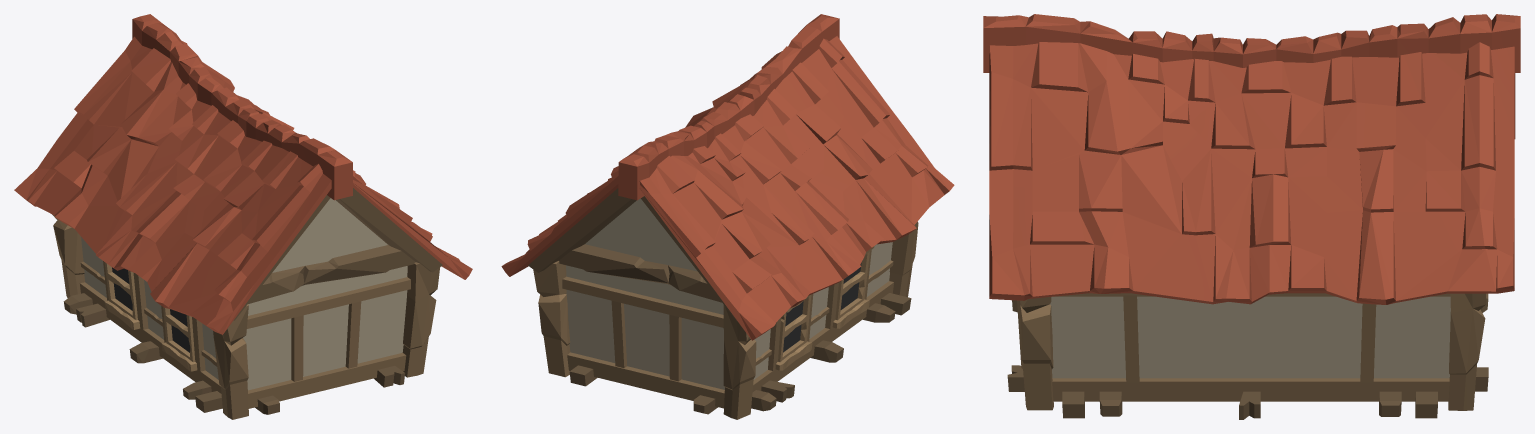
Rendered from SM_Bld_House_RoomTop_04.gltf.
3 renders of one model, left to right at view 1: azimuth 30°, elevation 25°; view 2: azimuth 150°, elevation 25°; view 3: azimuth 270°, elevation 25°, orthographic. The views are drawn at different scales.
Parts seen in each view (by area): view 1: SM_Bld_House_RoomTop_04; view 2: SM_Bld_House_RoomTop_04; view 3: SM_Bld_House_RoomTop_04.
Boxes of the visible parts, box(x1,y1,x2,y2) form: SM_Bld_House_RoomTop_04: box(14, 14, 472, 419); SM_Bld_House_RoomTop_04: box(501, 14, 954, 419); SM_Bld_House_RoomTop_04: box(983, 14, 1520, 419).
Bounding box in the file's own units: 5.43 × 4.65 × 6.86.
1 material, 1 textured.
